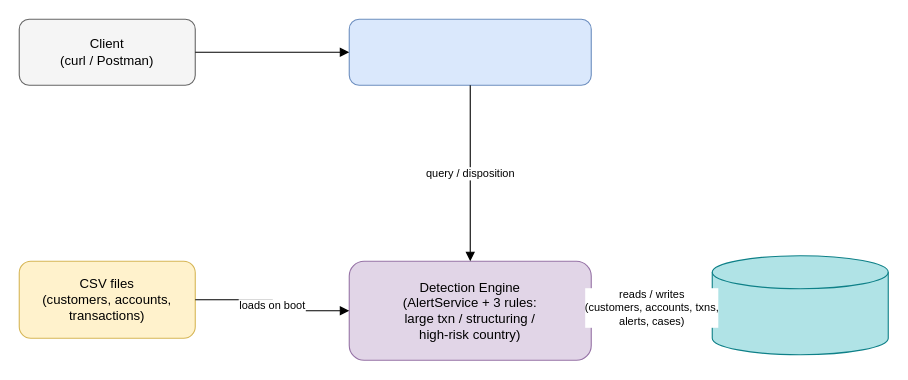
Image size: 908x380. Some labels were removed from this diagram. The centre of each missing label's shape, as x and y in pixels:
"PostgreSQL" belongs at point 799,305.
"REST API (ingest / alerts / disposition)" belongs at point 469,51.
